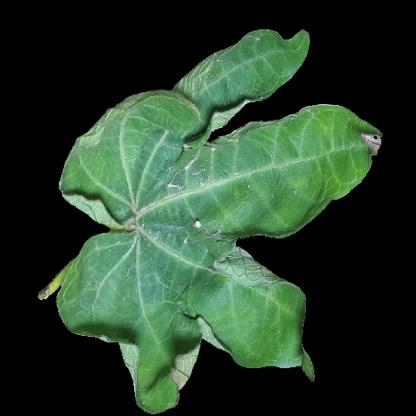curl_stage2: (229, 134, 349, 213), (165, 233, 257, 330), (71, 172, 143, 226)
